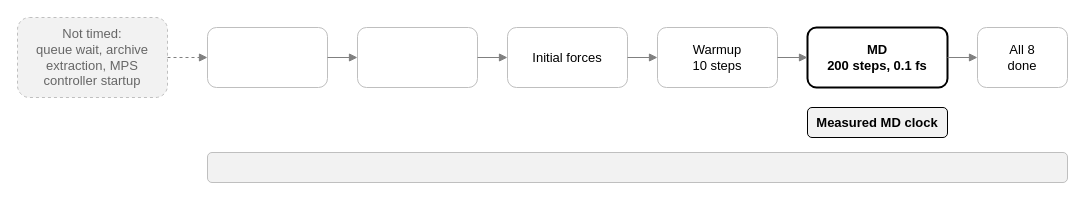
This 1085x200 diagram has some shape labels left out. Here are the shapes that lost their labels. From the top down, the centre of each, then its label:
At (x=267, y=57): "Client start (Python)".
At (x=417, y=57): "Model load".
At (x=637, y=167): "Whole-workflow clock = time to finish all eight (group wall time)".
